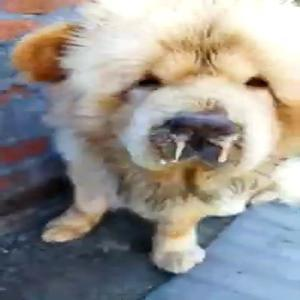nasal_discharge: (150, 112, 255, 167)
